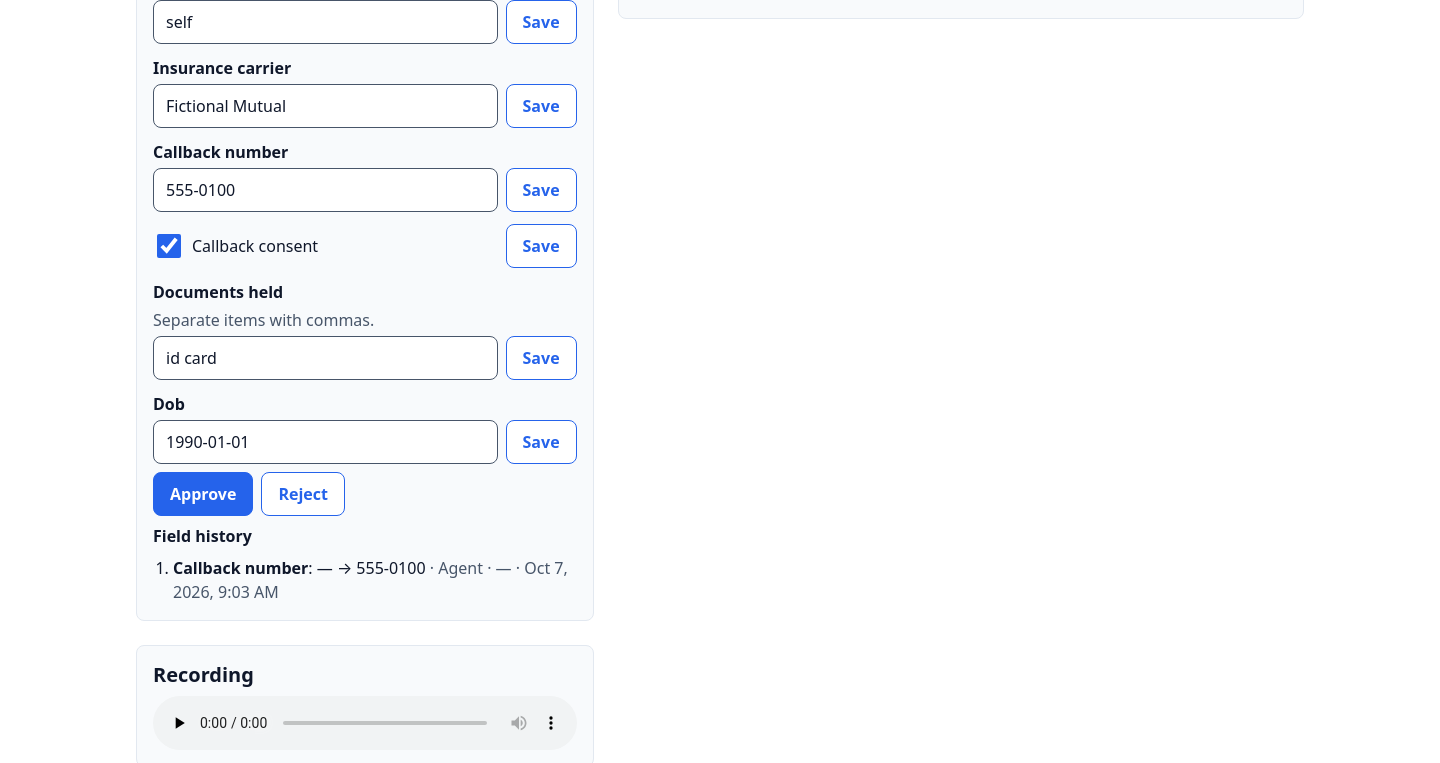
Test: call detail page › requires a reason to reject
(page scrolled)
Click the button with test id "form-reject": (303, 494) left=261, top=472, right=345, bottom=516
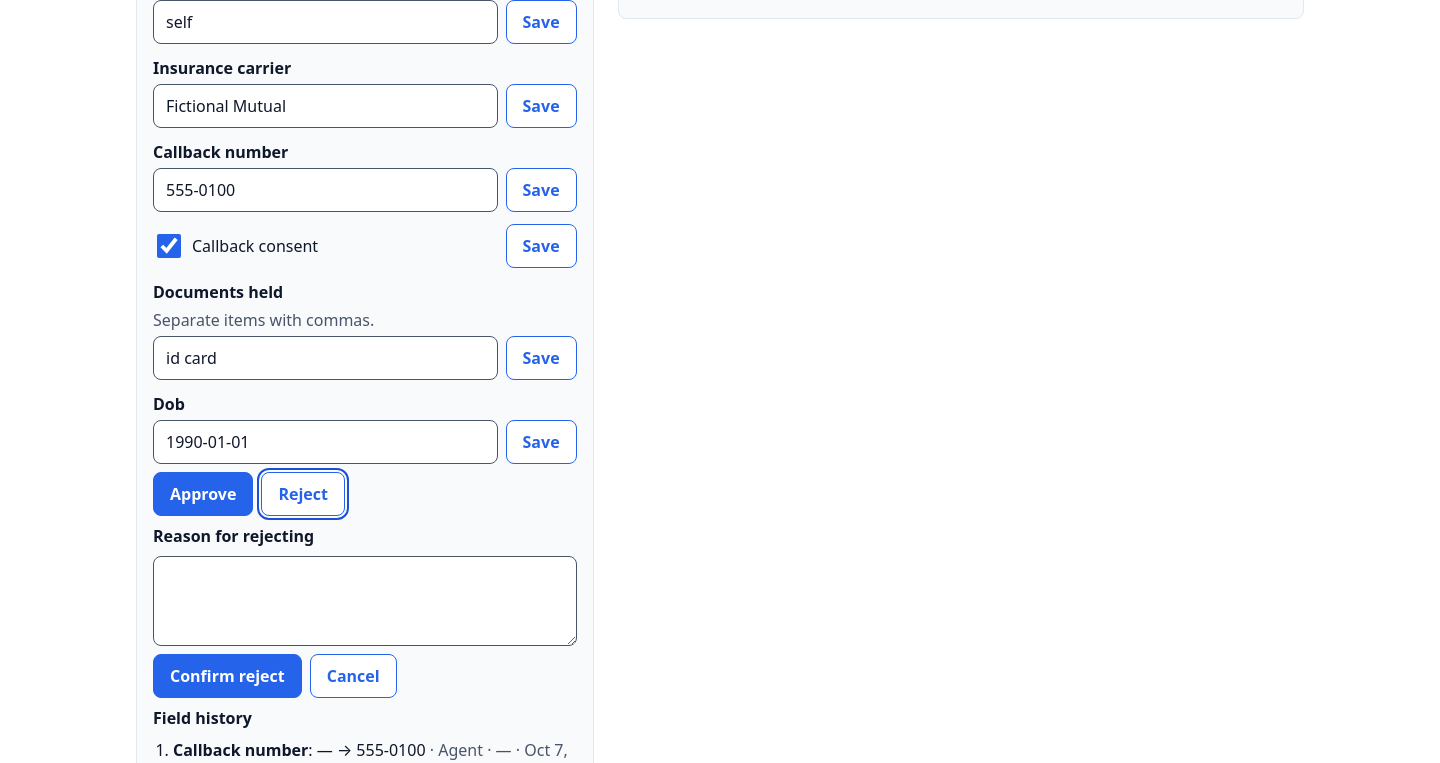
Click the button with test id "form-reject-confirm": (227, 676) left=153, top=654, right=302, bottom=698
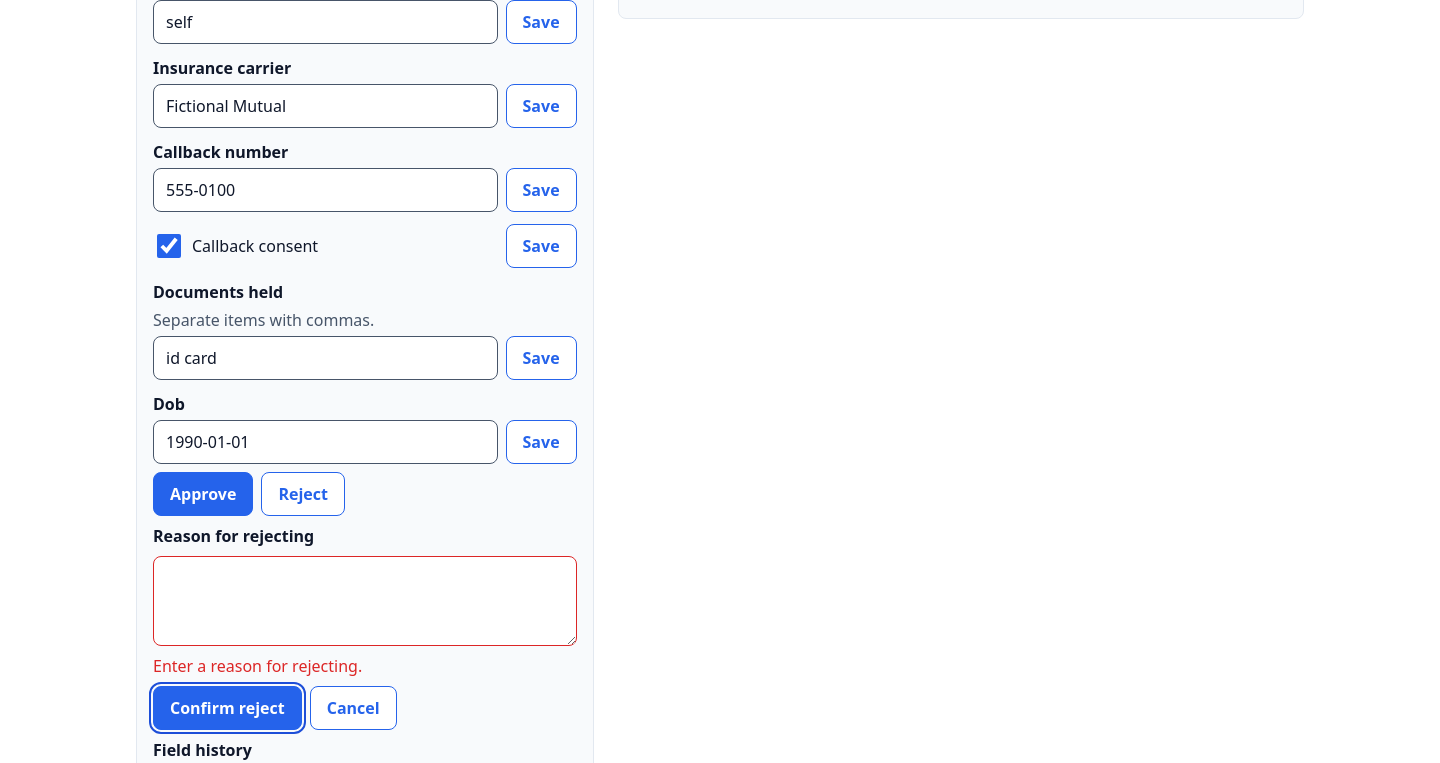
Result: the text with test id "form-reject-error" shows "Enter a reason" at left=153, top=655, right=362, bottom=677
In the text box with test id "form-reject-reason": (365, 601) left=153, top=556, right=577, bottom=646, type "Wrong caller"
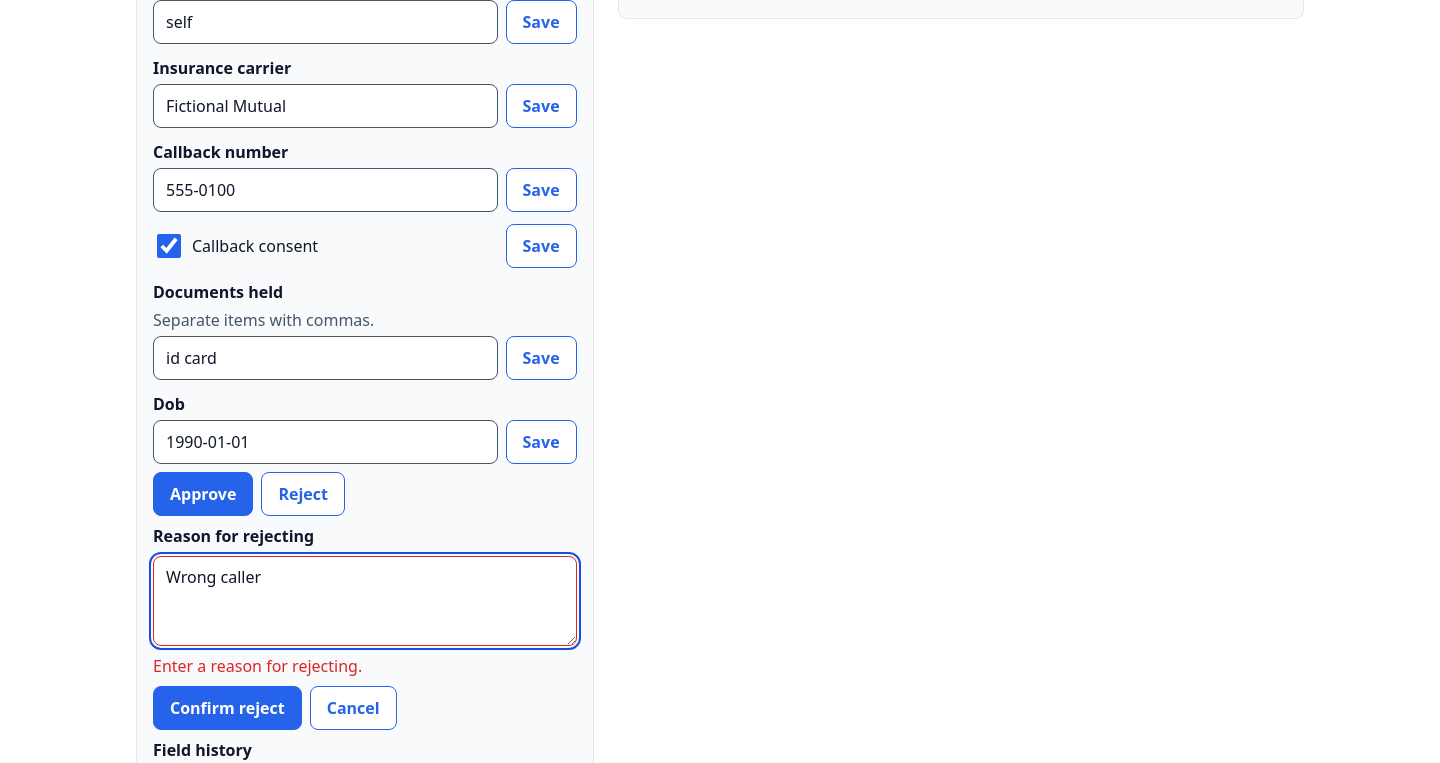
Click the button with test id "form-reject-confirm": (227, 708) left=153, top=686, right=302, bottom=730
(page scrolled)
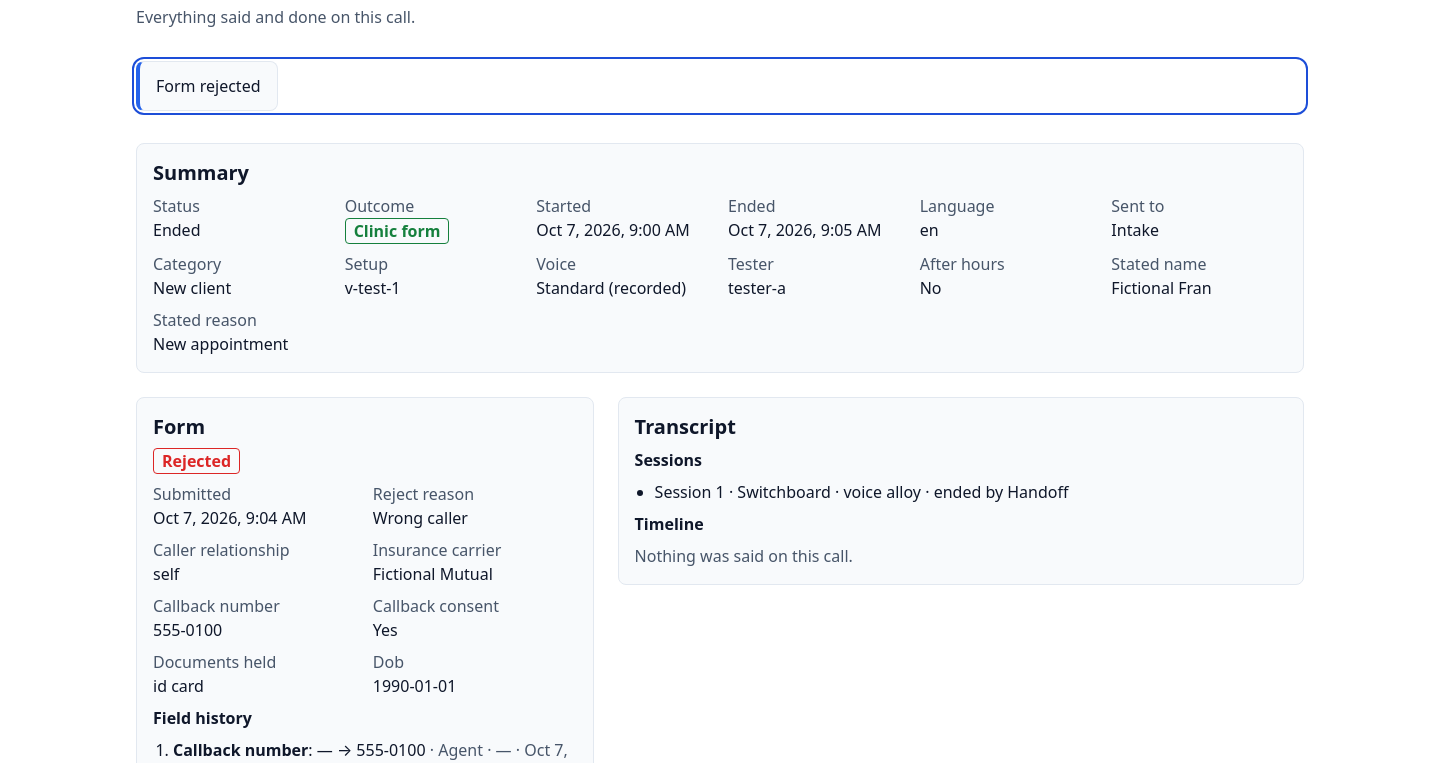
Result: the message with test id "detail-result" reads "Form rejected" at left=156, top=75, right=260, bottom=97
Result: the text with test id "detail-reject-reason" reads "Wrong caller" at left=373, top=507, right=468, bottom=529
